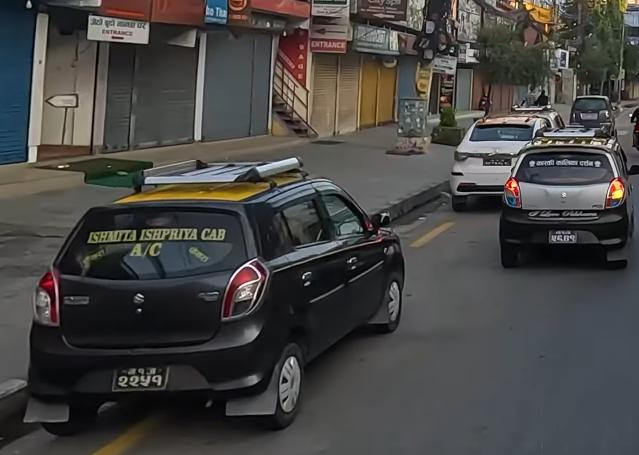taxi: (11, 156, 409, 428), (504, 128, 639, 273), (447, 103, 563, 207)
